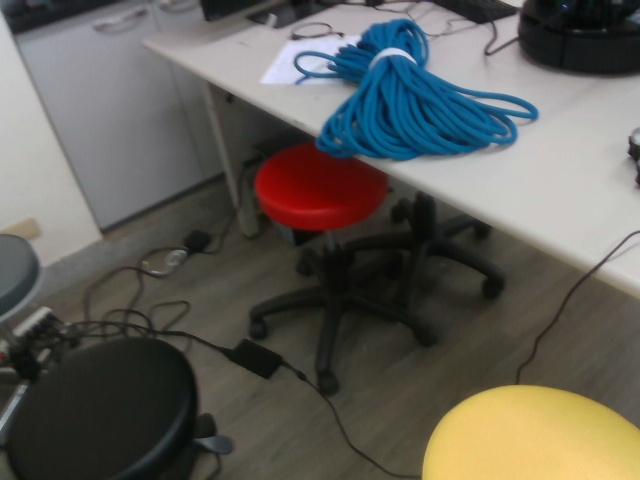rope: (288, 16, 545, 163)
